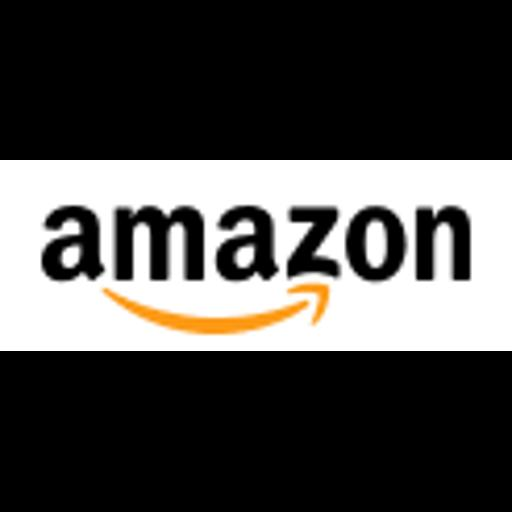Amazon: (0, 160, 512, 351)
